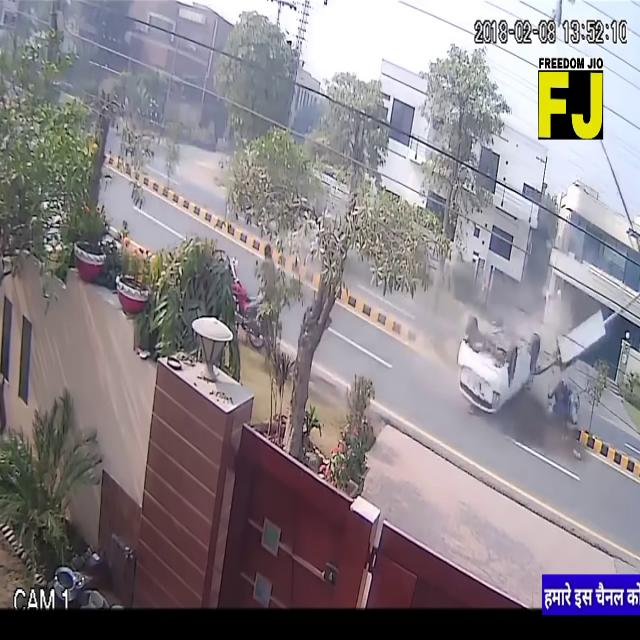accident: (450, 299, 541, 436)
